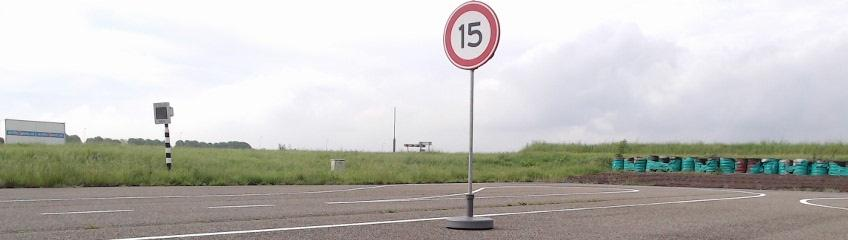Speed-limit-15km-h-: (443, 1, 500, 71)
